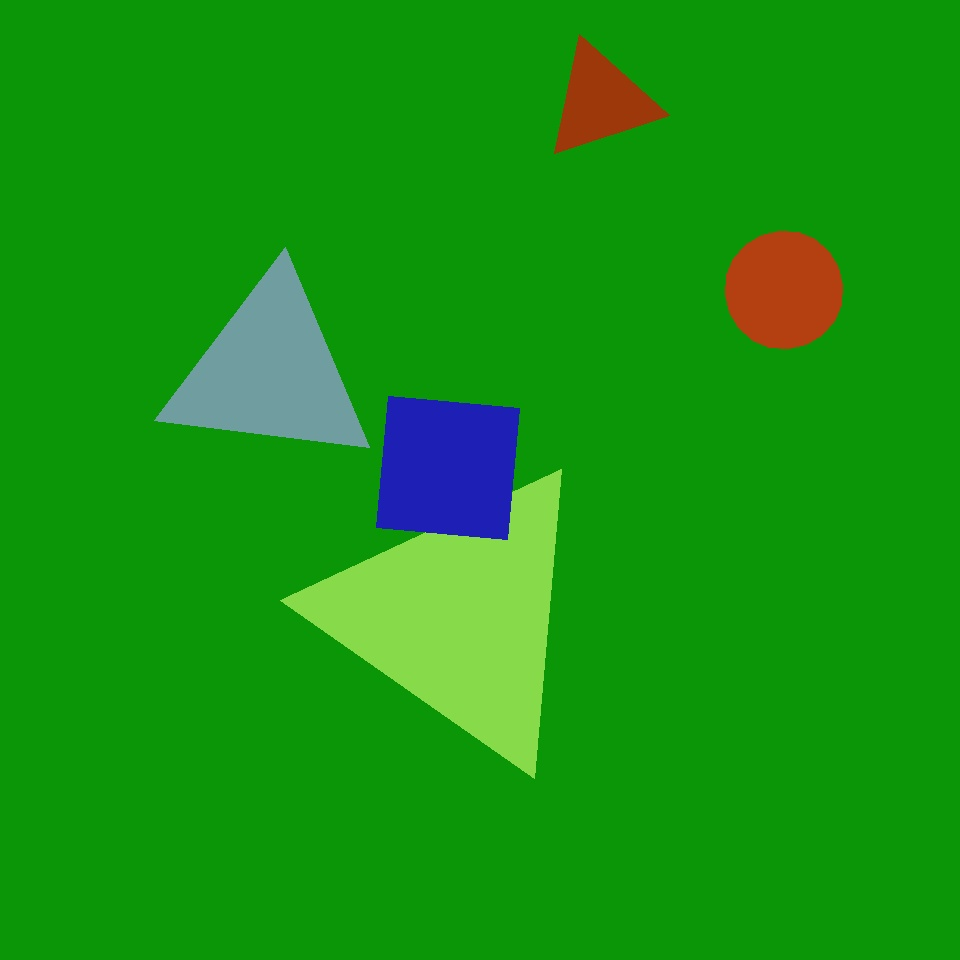circle: (318, 462, 600, 771), (162, 272, 378, 472), (357, 742, 499, 898), (544, 42, 659, 160)
square: (548, 504, 811, 767), (376, 396, 520, 540)
triangle: (540, 725, 773, 957), (726, 231, 842, 348), (101, 548, 210, 658)
